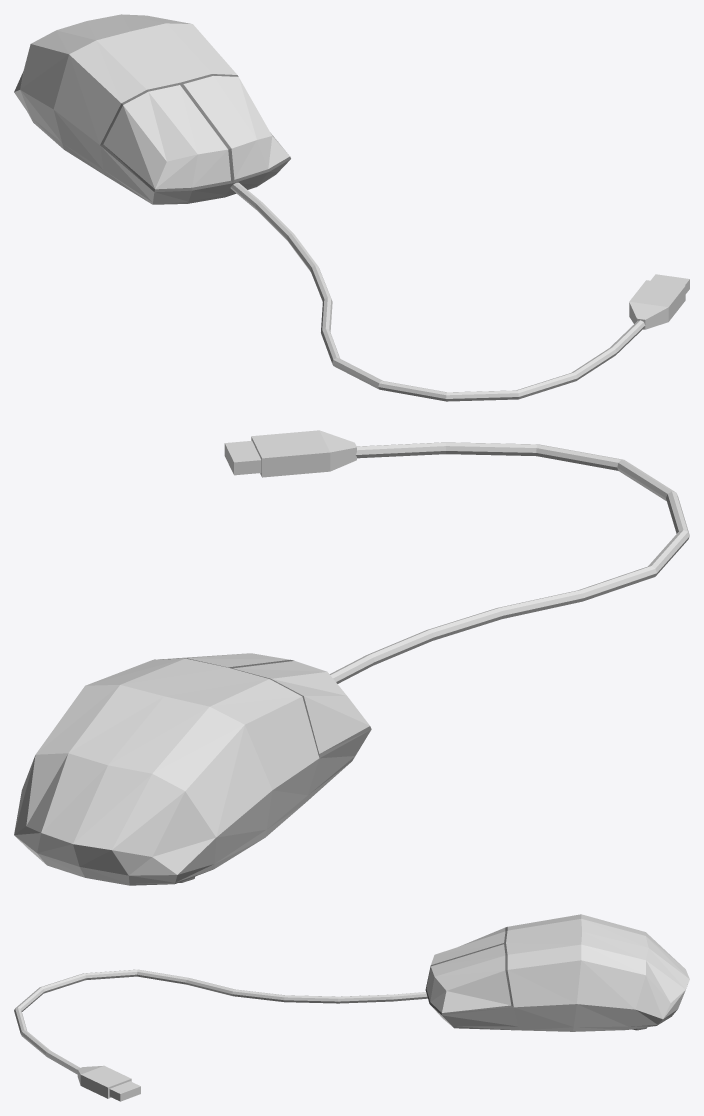
File: 1324 Computer Mouse.obj
3 views of the same model, one above another, from view 1: azimuth 30°, elevation 25°; view 2: azimuth 150°, elevation 25°; view 3: azimuth 270°, elevation 25° (orthographic). The views are drawn at different scales.
Parts seen in each view (by area): view 1: Computer_Mouse; view 2: Computer_Mouse; view 3: Computer_Mouse.
Part boxes in pixels (bbox=[...]): Computer_Mouse: bbox=[14, 14, 689, 401]; Computer_Mouse: bbox=[14, 430, 689, 885]; Computer_Mouse: bbox=[14, 914, 689, 1101].
Size of the model in its own units: 60.09 by 16.67 by 133.
Materials: 1 (1 with a texture image).
